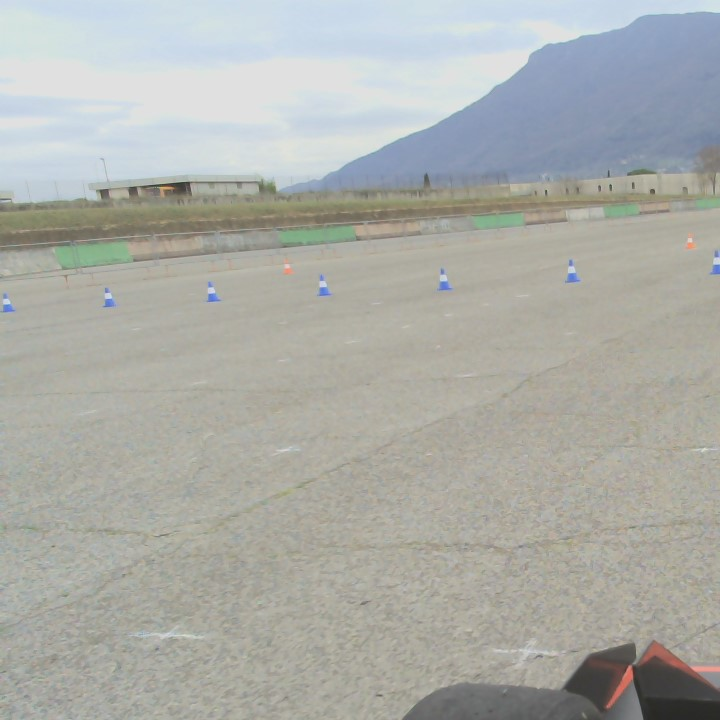cone: (436, 267, 452, 291), (102, 285, 116, 307), (317, 276, 331, 298), (1, 292, 14, 314), (566, 260, 578, 283), (206, 283, 219, 302), (711, 255, 720, 277)
